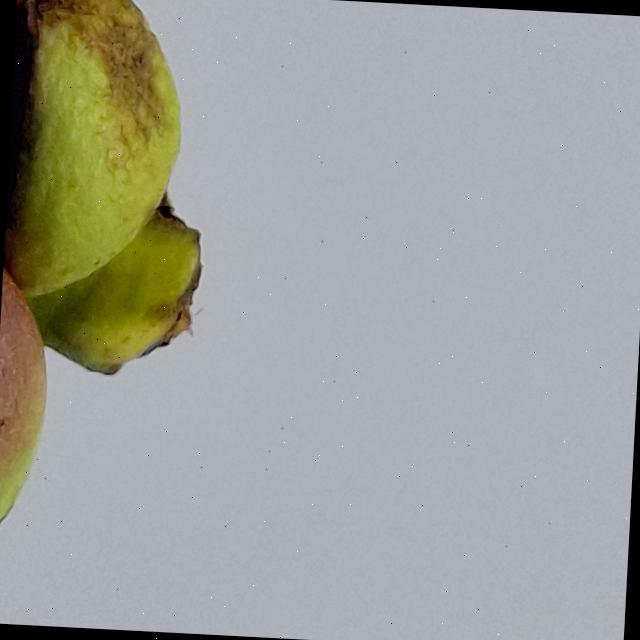mangosteen: (0, 0, 262, 635)
